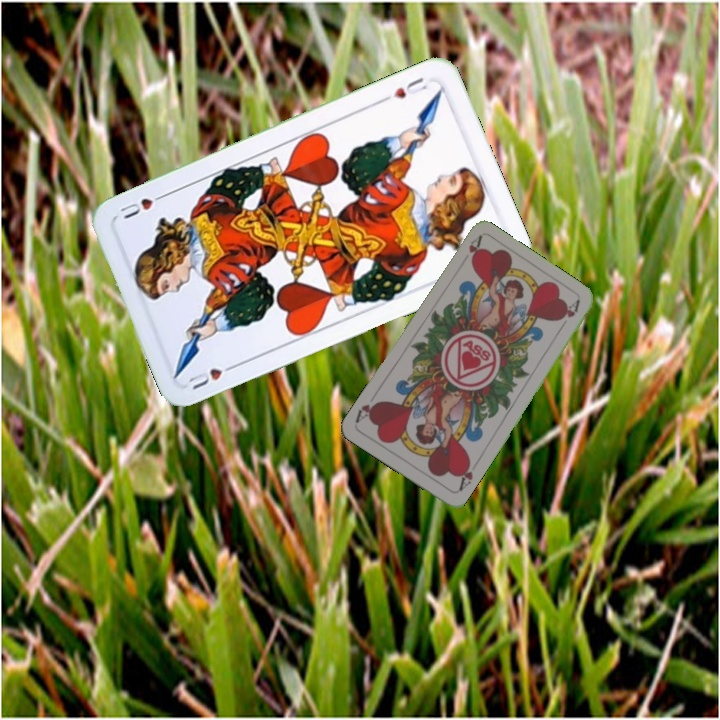HA: (456, 233, 484, 269), (454, 455, 476, 494)
HU: (184, 359, 240, 392), (378, 73, 430, 105)
